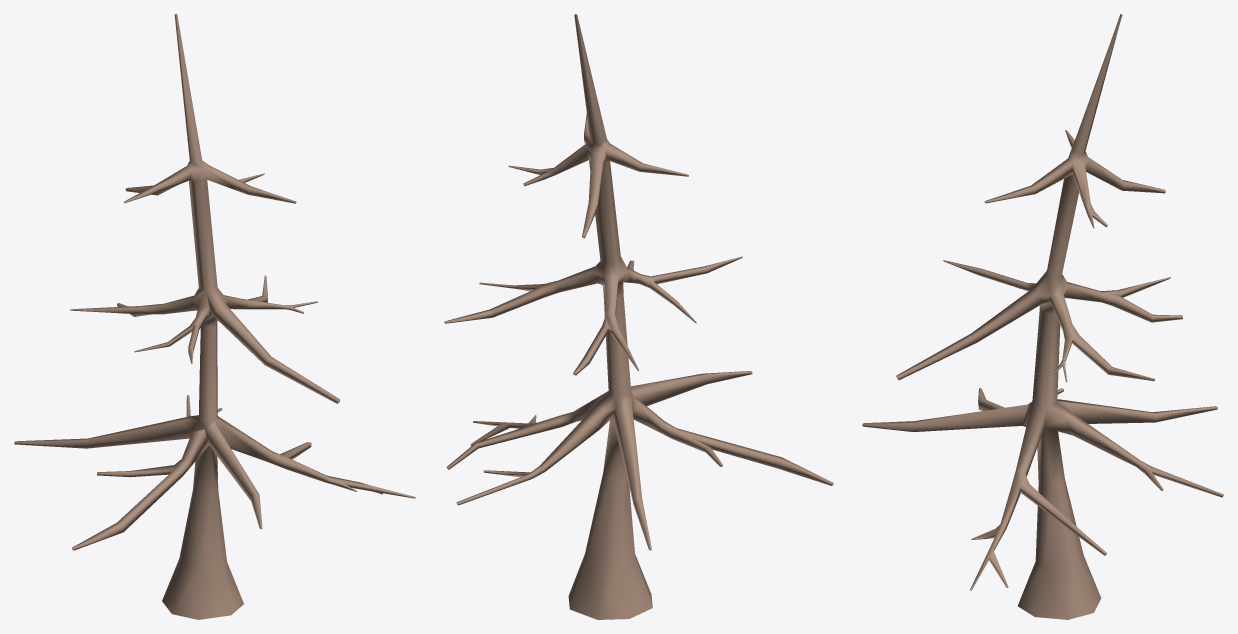
File: mdl_deadTree01.fbx
3 views of the same model, side by side, from view 1: azimuth 30°, elevation 25°; view 2: azimuth 150°, elevation 25°; view 3: azimuth 270°, elevation 25° (orthographic). The views are drawn at different scales.
Visible parts, largest first — view 1: mdl_deadTree02; view 2: mdl_deadTree02; view 3: mdl_deadTree02.
Boxes of the visible parts, left/top/right/bottom form: mdl_deadTree02: left=14, top=14, right=415, bottom=619; mdl_deadTree02: left=444, top=14, right=833, bottom=619; mdl_deadTree02: left=862, top=14, right=1223, bottom=619.
Size of the model in its own units: 85.76 by 137 by 76.18.
Materials: 1 (1 with a texture image).
